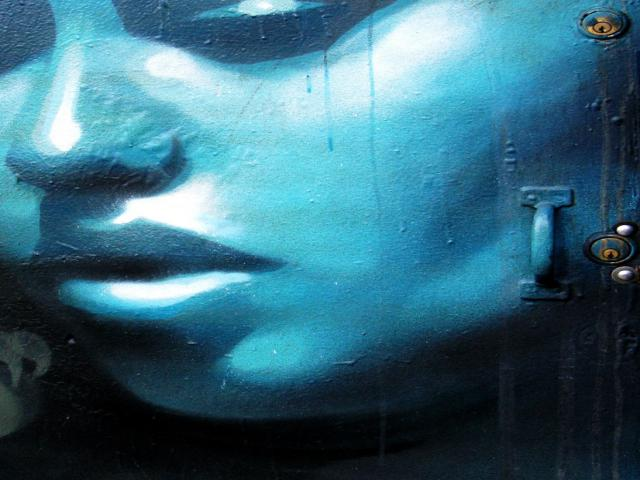Door-handle: (509, 179, 572, 304)
